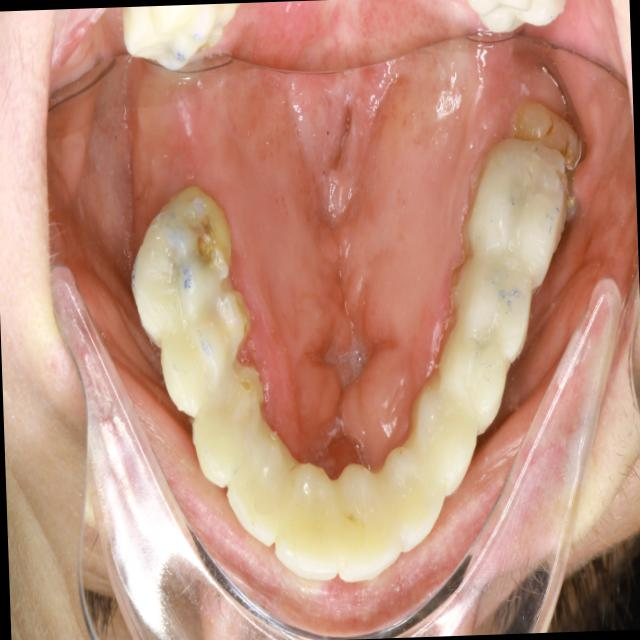tooth: (121, 172, 244, 359), (461, 127, 576, 289), (151, 275, 268, 434), (178, 354, 271, 508), (218, 398, 303, 558), (397, 362, 486, 510), (268, 441, 346, 595), (428, 318, 518, 450), (321, 459, 414, 585), (446, 242, 538, 368), (369, 434, 454, 557), (514, 82, 585, 171)
